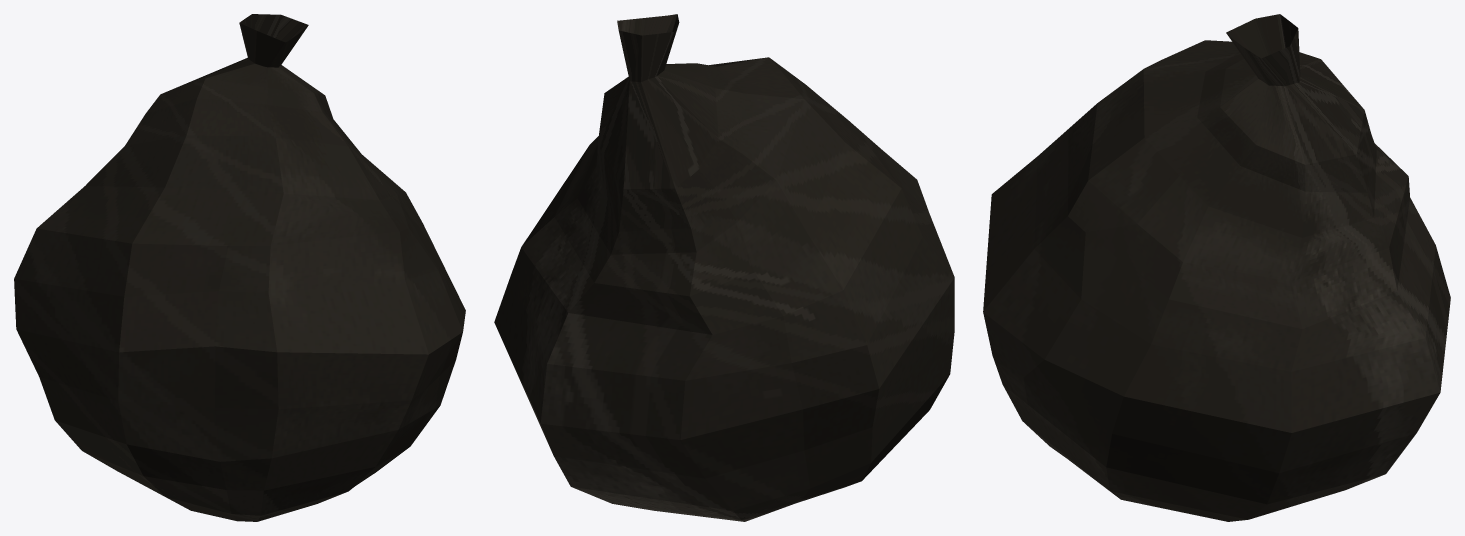
File: SM_Kitchentrash1.fbx
The picture shows the model from 3 angles, left to right: view 1: azimuth 30°, elevation 25°; view 2: azimuth 150°, elevation 25°; view 3: azimuth 270°, elevation 25°; orthographic projection. The views are drawn at different scales.
Parts seen in each view (by area): view 1: SM_trashkitch; view 2: SM_trashkitch; view 3: SM_trashkitch.
Part boxes in pixels (x1=…): SM_trashkitch: x1=14, y1=14, x2=465, y2=521; SM_trashkitch: x1=494, y1=14, x2=954, y2=521; SM_trashkitch: x1=983, y1=14, x2=1450, y2=521.
Bounding box in the file's own units: 57.14 × 65.32 × 57.51.
